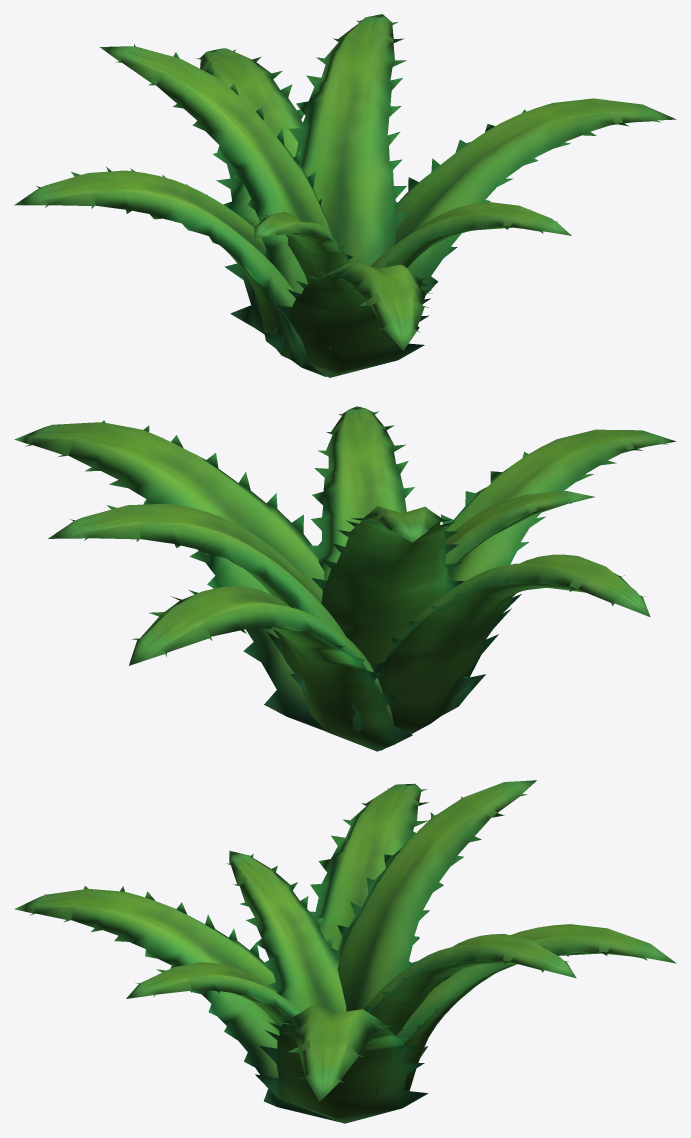
The model's file is ALOE.fbx.
The picture shows the model from 3 angles, top to bottom: view 1: azimuth 30°, elevation 25°; view 2: azimuth 150°, elevation 25°; view 3: azimuth 270°, elevation 25°; orthographic projection. The views are drawn at different scales.
Parts seen in each view (by area): view 1: AloeLıf.003; view 2: AloeLıf.003; view 3: AloeLıf.003.
Boxes of the visible parts, bbox=[...] form: AloeLıf.003: bbox=[14, 14, 676, 377]; AloeLıf.003: bbox=[14, 406, 676, 751]; AloeLıf.003: bbox=[14, 780, 676, 1123].
Size of the model in its own units: 863 by 393 by 830.
